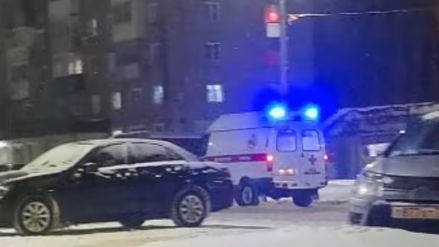ambulance: (198, 104, 325, 206)
non emergency car: (0, 138, 233, 237), (347, 107, 438, 235)
